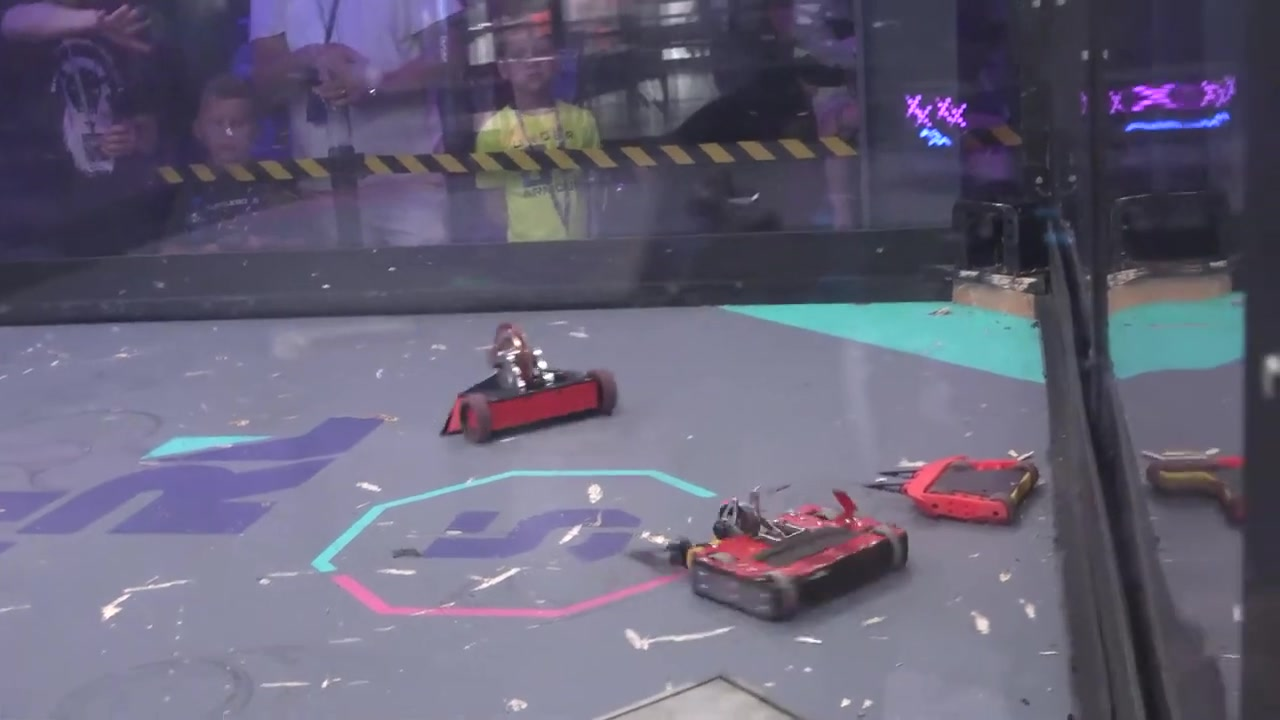combatbot: (687, 490, 907, 626), (440, 322, 622, 446)
housebot: (596, 670, 799, 720)
minibot: (864, 455, 1040, 526)
